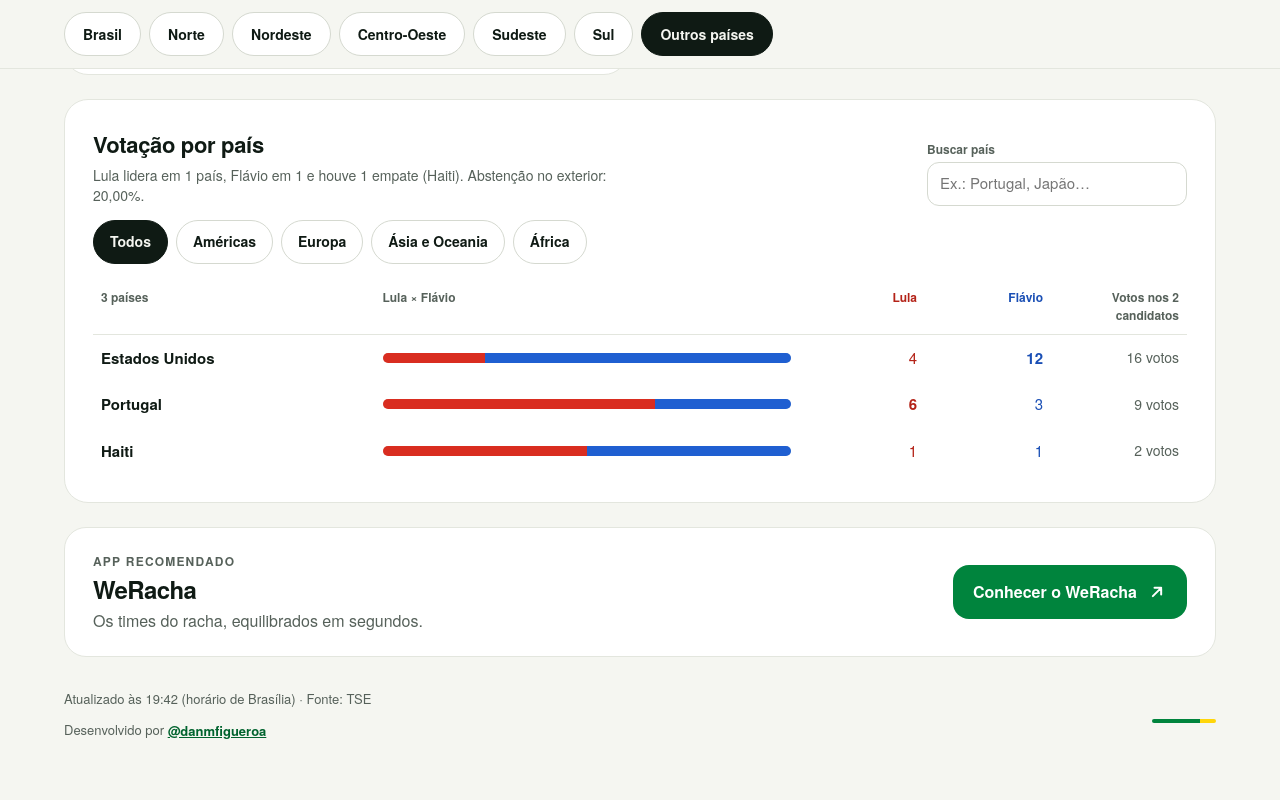
Scenario: App abroad votes › selects a country abroad from the list by country
The image size is (1280, 800).
(page scrolled)
Click the button "Portugal 9 votos 6 3": (640, 404) [93,381,1187,428]
(page scrolled)
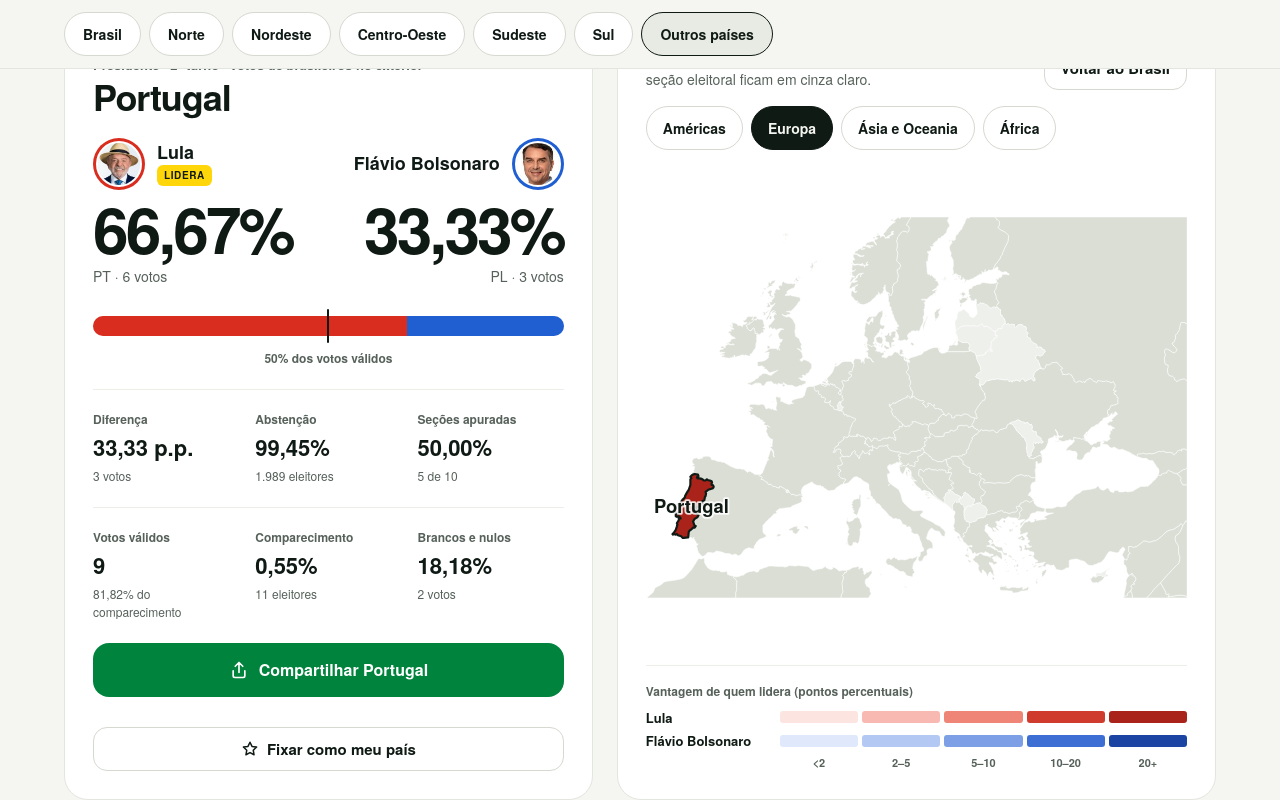
Expected: the text "66,67%" is shown, [93,196,293,260]
Expected: the buttons read "Brasil", "Outros países", "Portugal", in this order, [89,0,136,43]; [145,0,246,43]; [255,0,320,43]
Expected: the button "Compartilhar Portugal" is shown, [93,643,564,697]
